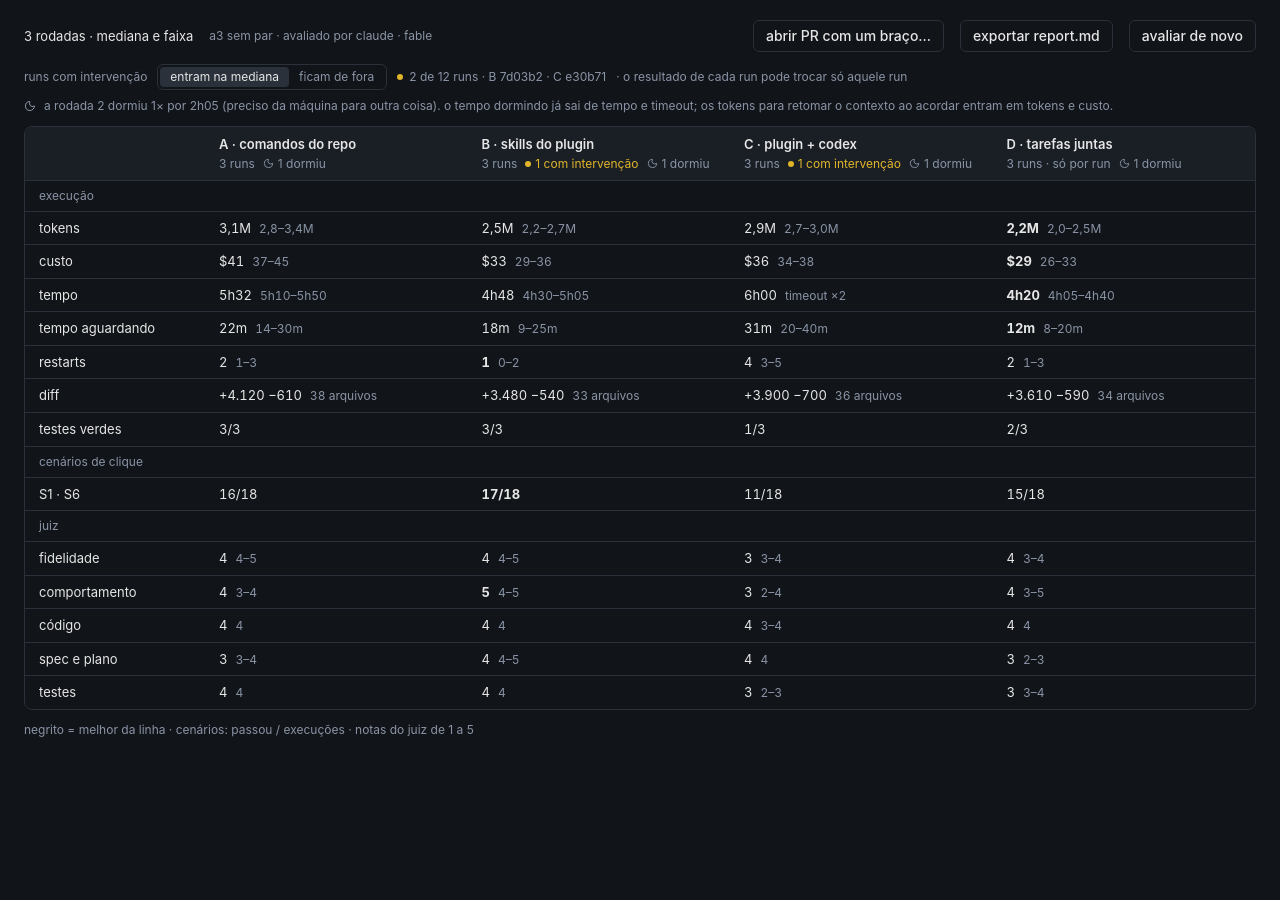
it: avaliar de novo confirms with the runs the route evaluates and posts /evaluate; a 409 keeps the dialog with the busy line, a 202 closes it (#467)
Click the button "avaliar de novo" at coordinates (1192, 36), box top-left (1129, 20), bottom-right (1256, 52)
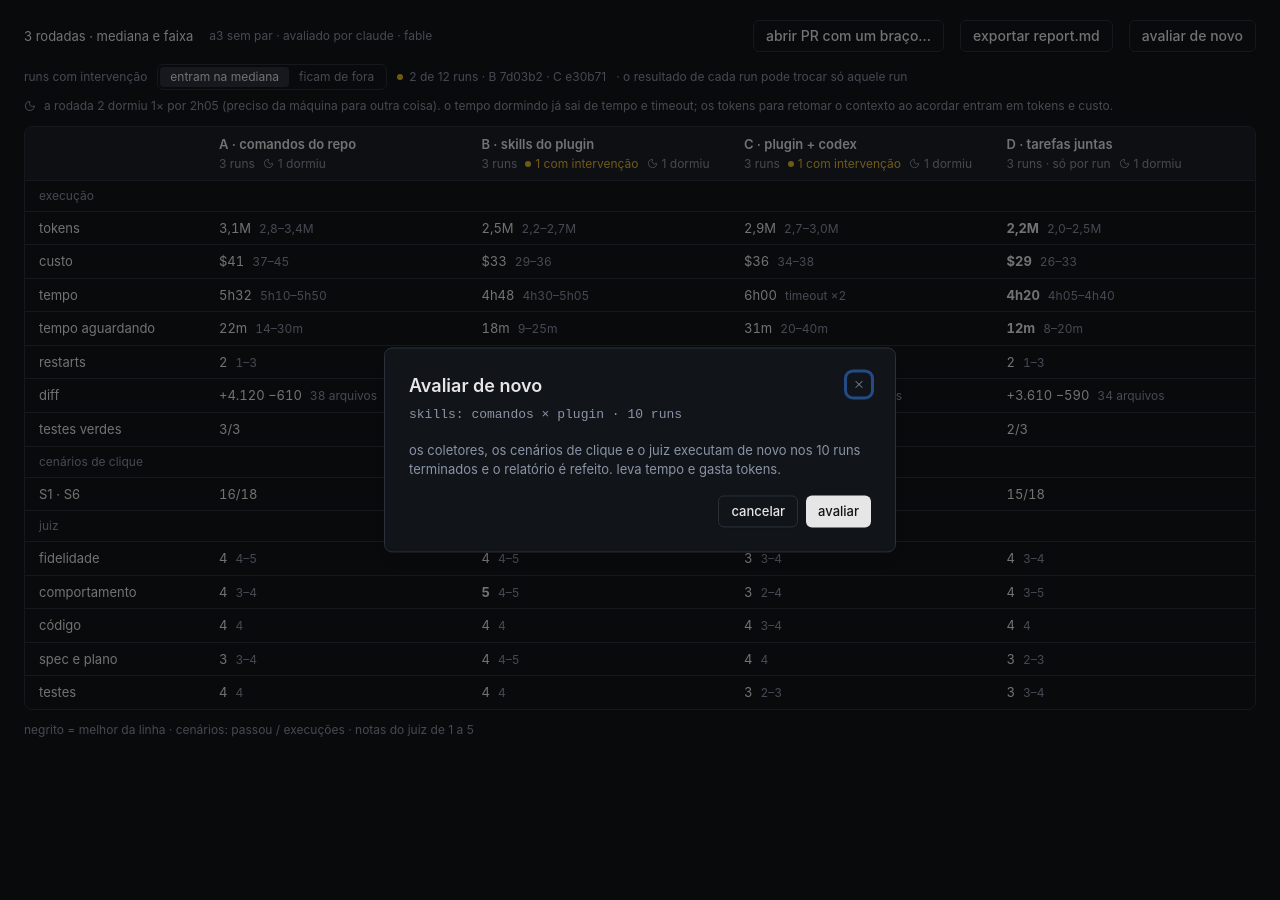
expect the text "skills: comandos × plugin · 10 runs" is shown: met, box top-left (409, 407), bottom-right (682, 422)
expect the text "os coletores, os cenários de clique e o juiz executam de novo nos 10 runs terminados e o relatório é refeito. leva tempo" is shown: met, box top-left (409, 442), bottom-right (864, 477)
Click the button "avaliar" at coordinates (839, 511), box top-left (806, 495), bottom-right (871, 528)
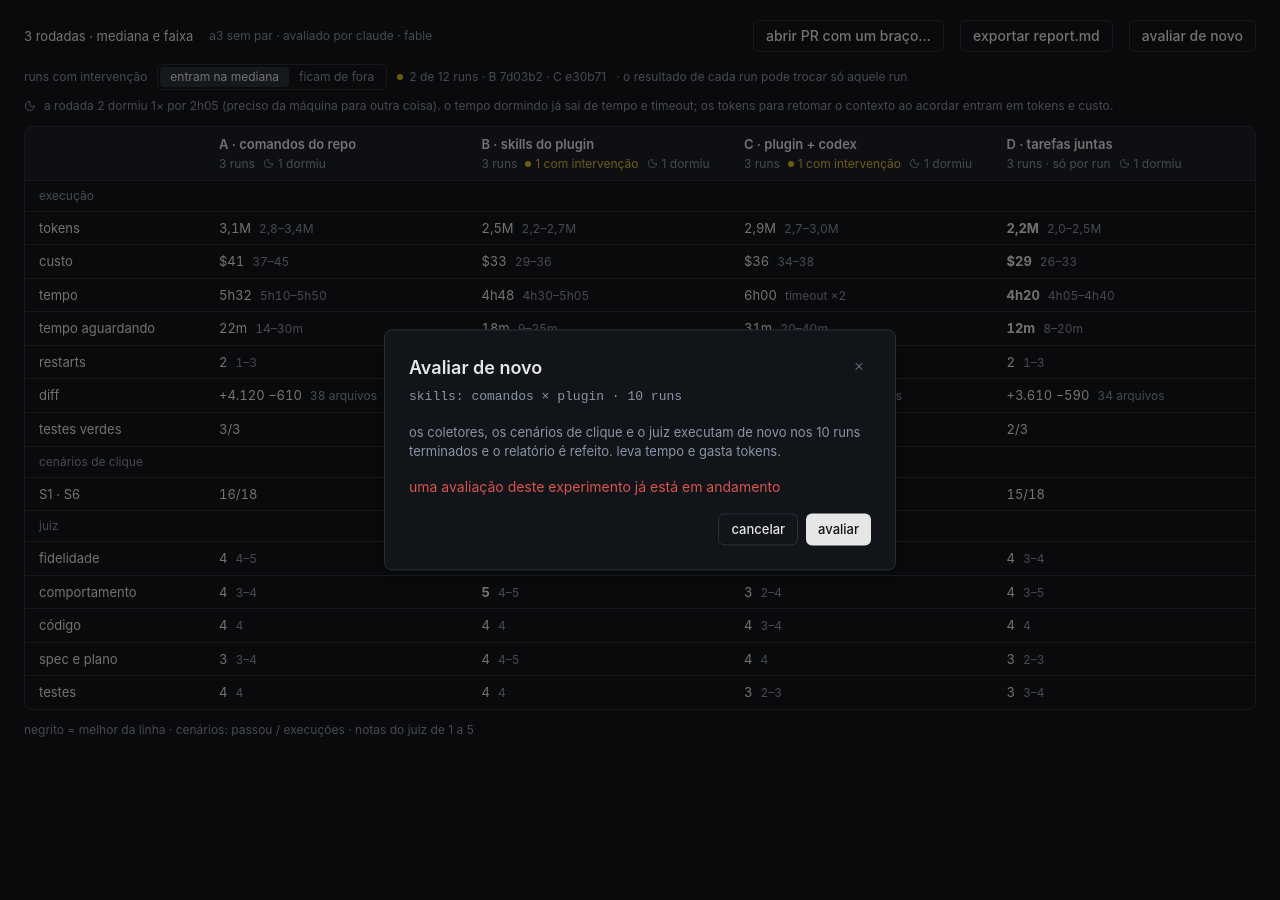
expect the text "uma avaliação deste experimento já está em andamento" is shown: met, box top-left (409, 478), bottom-right (780, 495)
Click the button "avaliar" at coordinates (839, 529), box top-left (806, 513), bottom-right (871, 546)
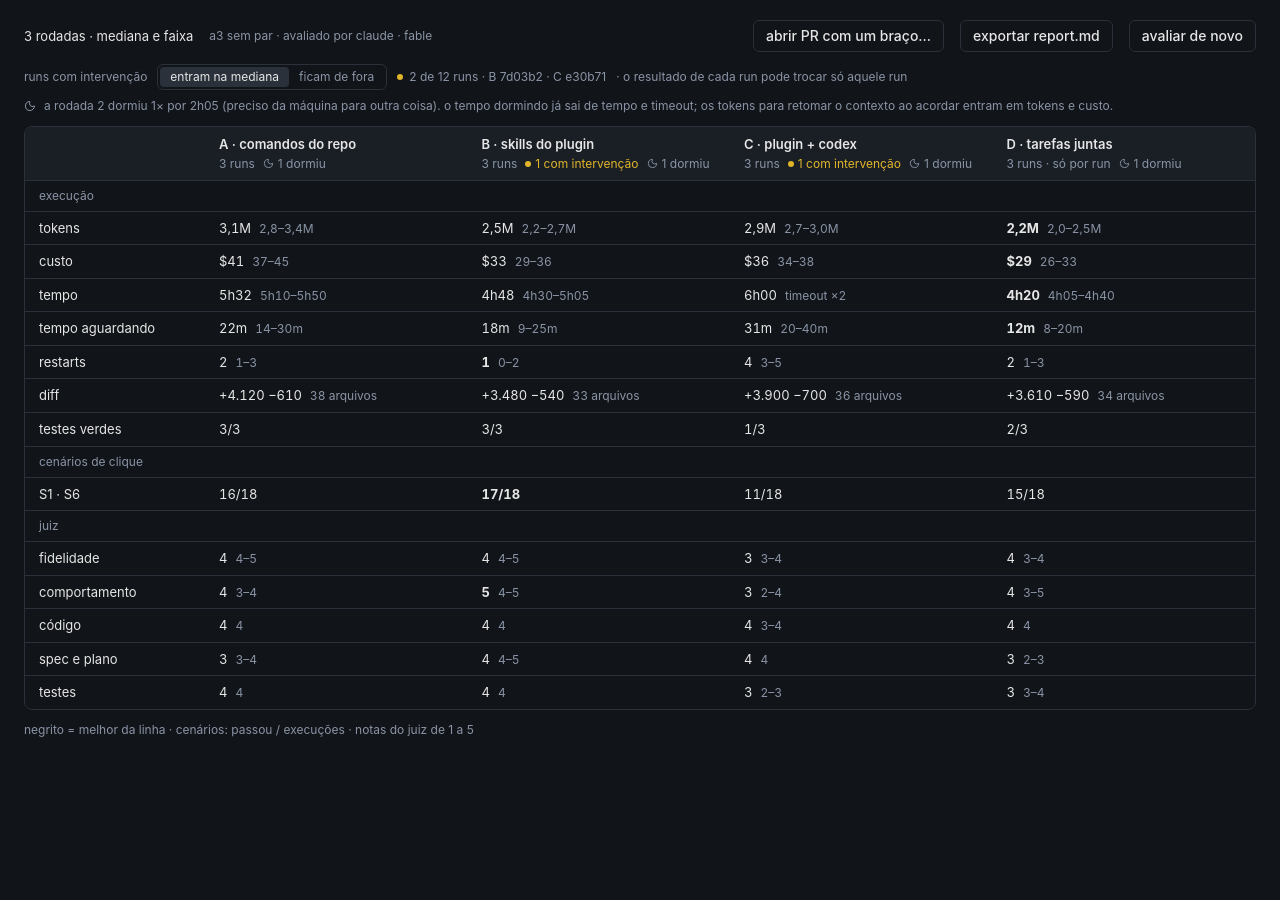
expect the dialog is gone: met
